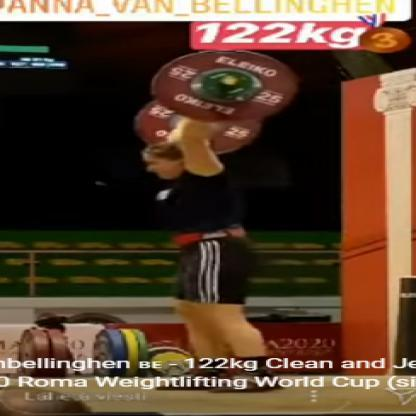barbell: (134, 47, 298, 156)
